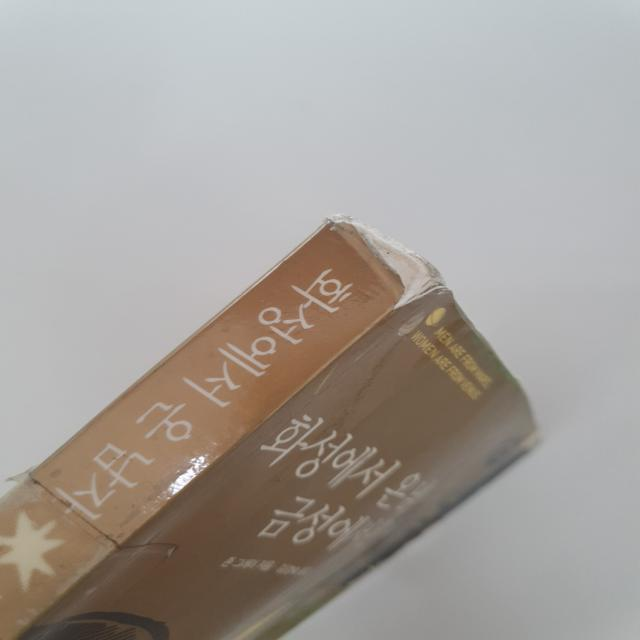Ripped: (323, 207, 457, 313)
